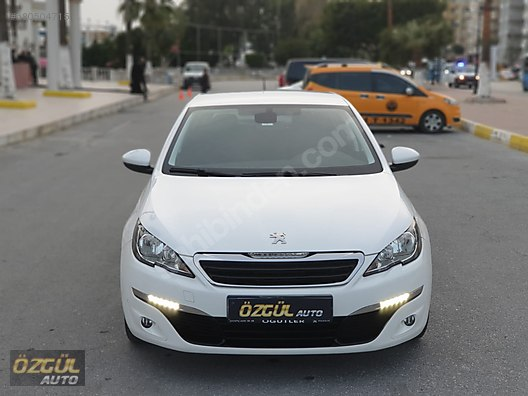peugeot: (105, 88, 438, 361)
